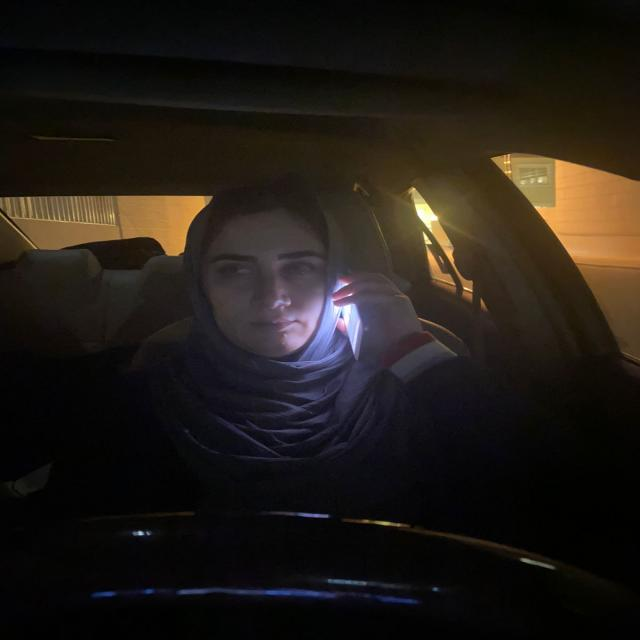mobile: (334, 274, 366, 378)
person: (182, 180, 341, 369)
